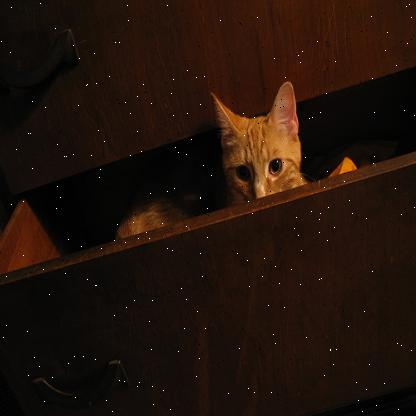cat: (204, 79, 304, 204)
